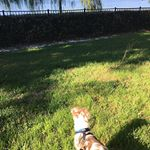puppy: (66, 102, 116, 150)
